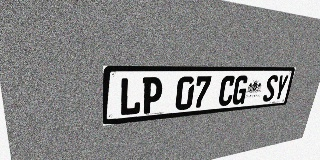0: (175, 76, 195, 111)
7: (192, 76, 212, 109)
C: (217, 76, 236, 106)
G: (231, 75, 249, 105)
L: (119, 77, 142, 116)
P: (141, 77, 163, 114)
S: (262, 75, 279, 102)
Y: (273, 75, 289, 101)
